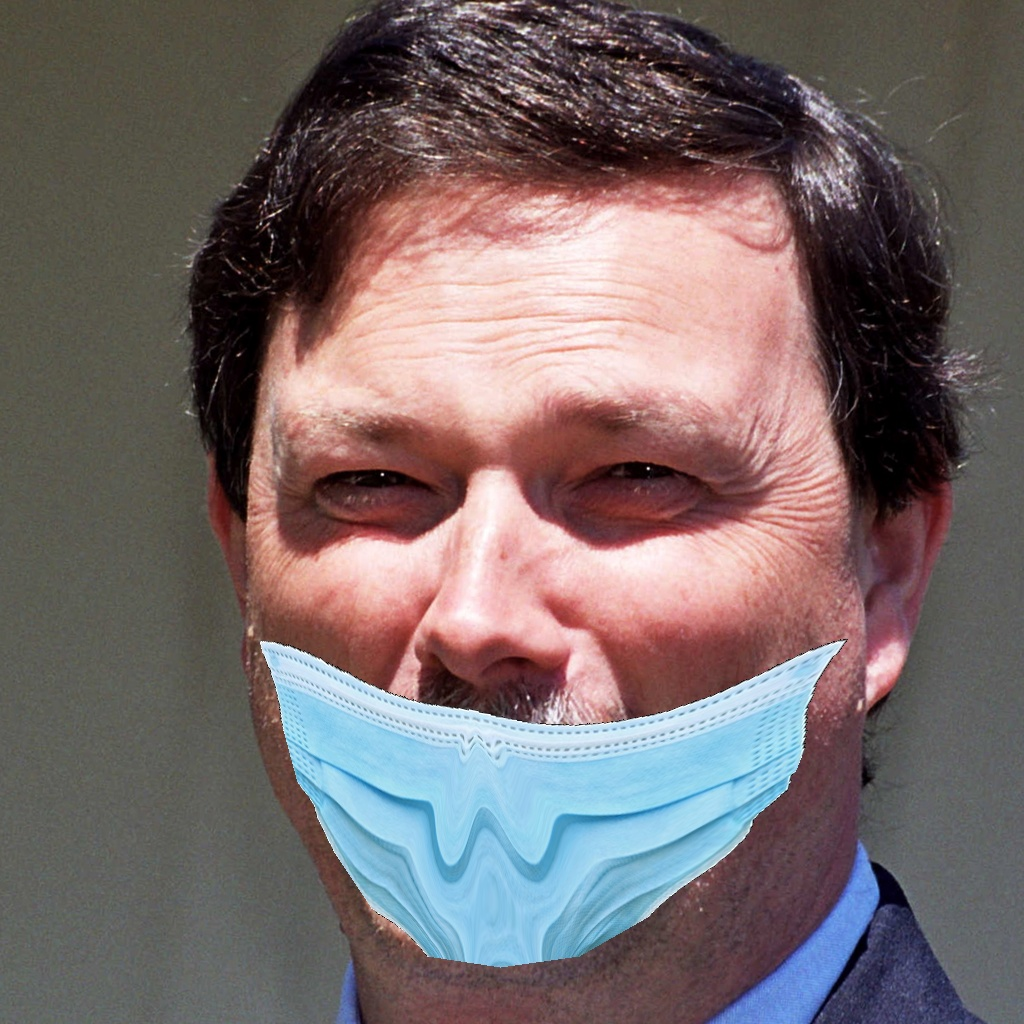mask_weared_incorrect: (242, 384, 865, 974)
